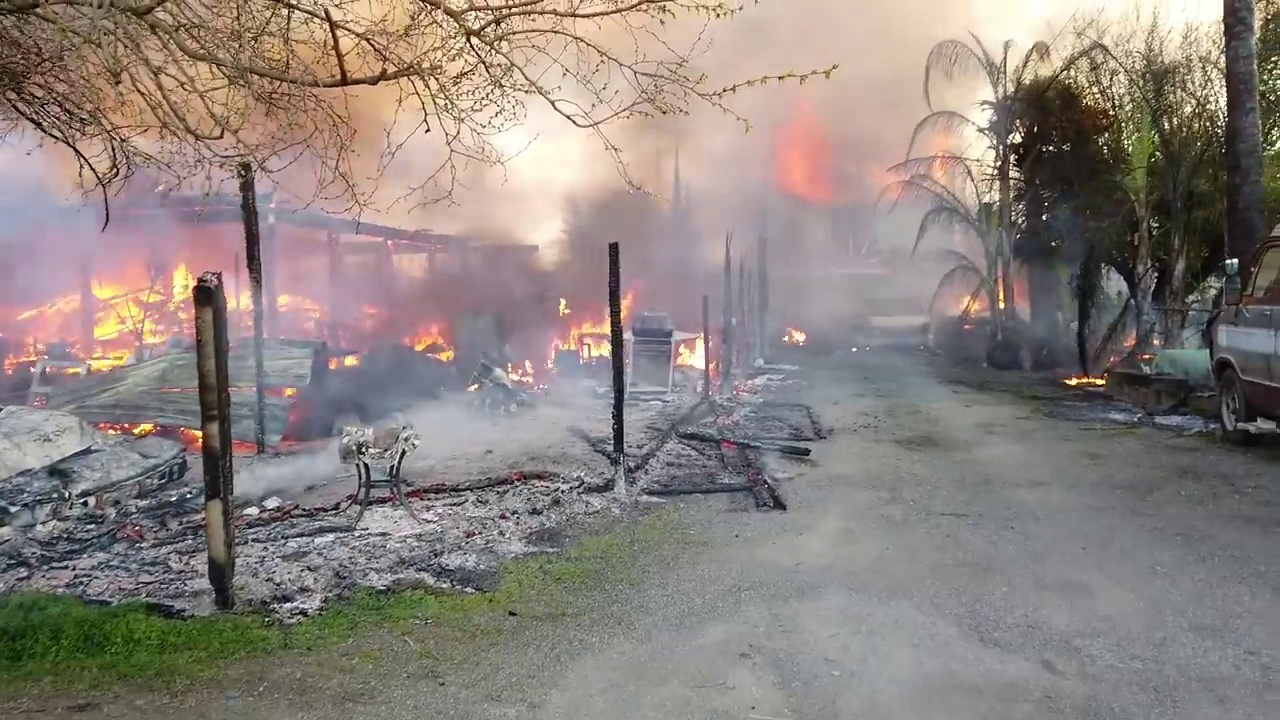fire: (1, 256, 203, 368), (553, 282, 636, 362), (94, 415, 201, 444), (465, 351, 538, 390), (398, 318, 457, 361), (673, 331, 711, 368), (1063, 366, 1116, 387), (353, 299, 389, 329), (275, 290, 313, 308), (328, 347, 365, 365), (960, 291, 983, 311), (783, 326, 807, 342), (1123, 329, 1137, 345)
smoke: (1, 1, 813, 351), (816, 1, 977, 205), (817, 210, 1000, 353)
